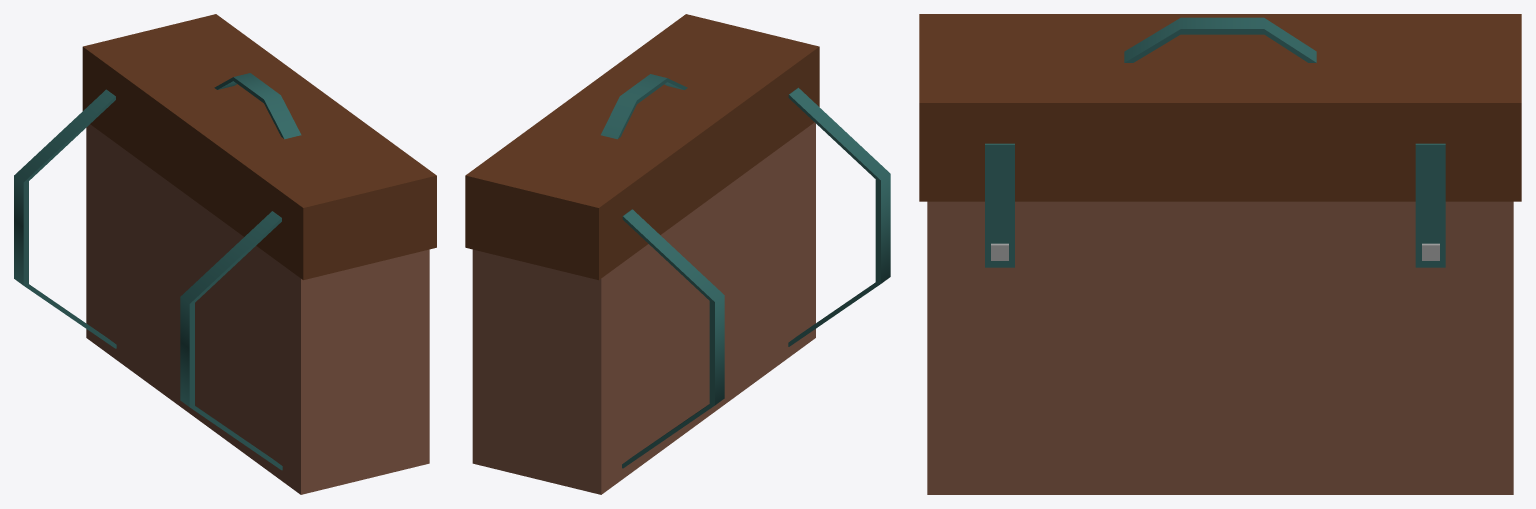
Rendered from SchoolBag.fbx.
3 renders of one model, left to right at view 1: azimuth 30°, elevation 25°; view 2: azimuth 150°, elevation 25°; view 3: azimuth 270°, elevation 25°, orthographic. The views are drawn at different scales.
Visible parts, largest first — view 1: pCube1, pCube5, pCube2, pCube3, pCube4; view 2: pCube1, pCube5, pCube3, pCube2, pCube4; view 3: pCube1, pCube5, pCube7, pCube6, pCube4.
Part boxes in pixels (x1,y1,x2,y2): pCube1: (86,124,429,494); pCube5: (82,14,436,280); pCube2: (180,211,282,470); pCube3: (14,89,116,348); pCube4: (214,73,301,139); pCube1: (472,122,815,494); pCube5: (465,14,819,280); pCube3: (622,209,724,468); pCube2: (788,87,890,346); pCube4: (601,74,687,139); pCube1: (927,201,1513,494); pCube5: (919,14,1521,201); pCube7: (1415,143,1445,267); pCube6: (985,143,1014,267); pCube4: (1124,17,1316,62).
Bounding box in the file's own units: 2.68 × 3.49 × 4.44.
